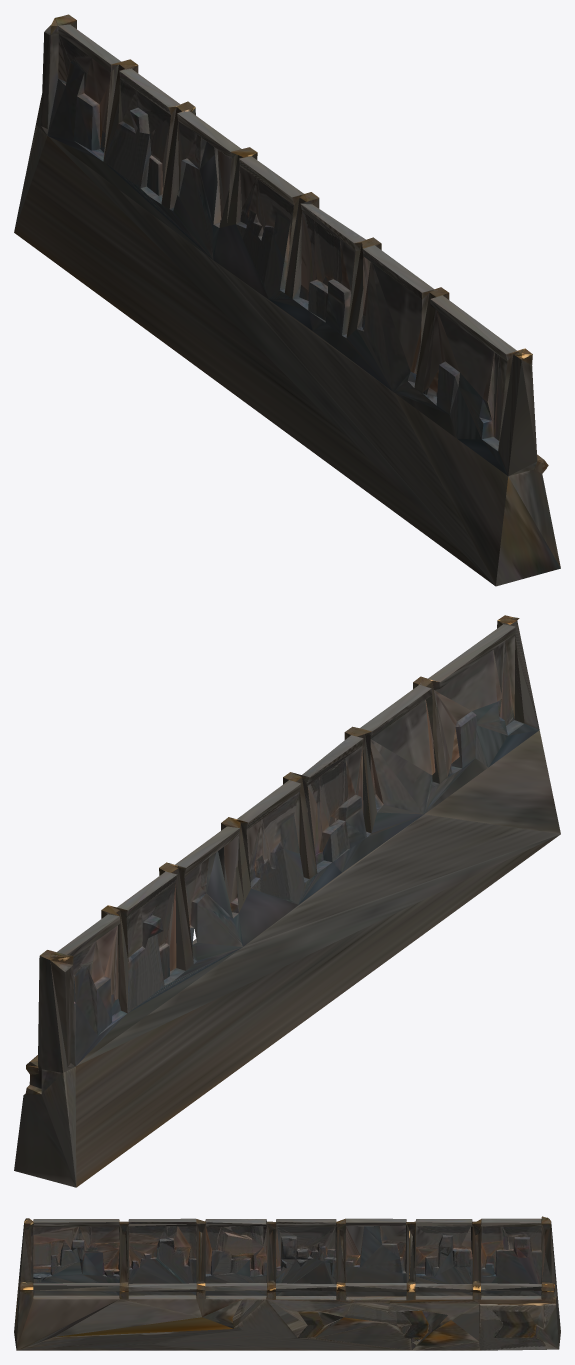
3 renders of one model, top to bottom at view 1: azimuth 30°, elevation 25°; view 2: azimuth 150°, elevation 25°; view 3: azimuth 270°, elevation 25°, orthographic. The views are drawn at different scales.
Parts seen in each view (by area): view 1: u02; view 2: u02; view 3: u02.
Boxes of the visible parts, x1,y1,x2,y2 form: u02: [14, 14, 560, 586]; u02: [14, 615, 560, 1187]; u02: [14, 1216, 560, 1350].
Size of the model in its own units: 1.48 by 4.49 by 18.12.
1 material, 1 textured.
